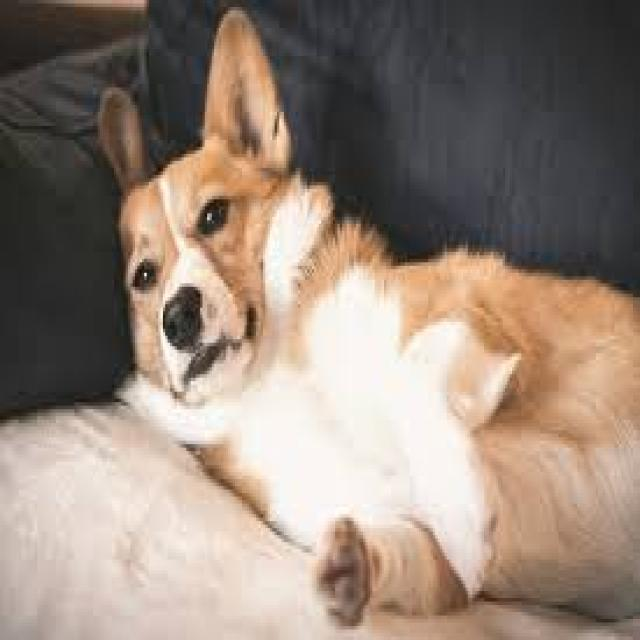CORGI: (79, 14, 640, 640)
